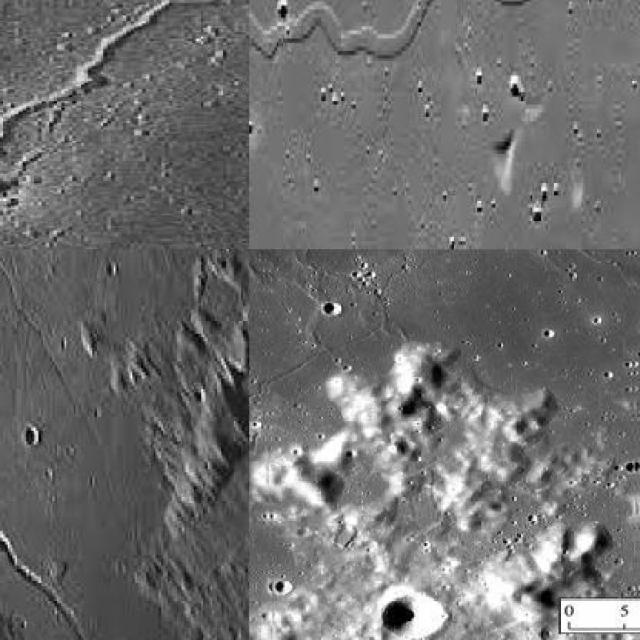rille: (250, 249, 498, 617), (0, 0, 248, 168), (0, 415, 158, 638), (137, 0, 248, 248), (250, 0, 638, 62)
